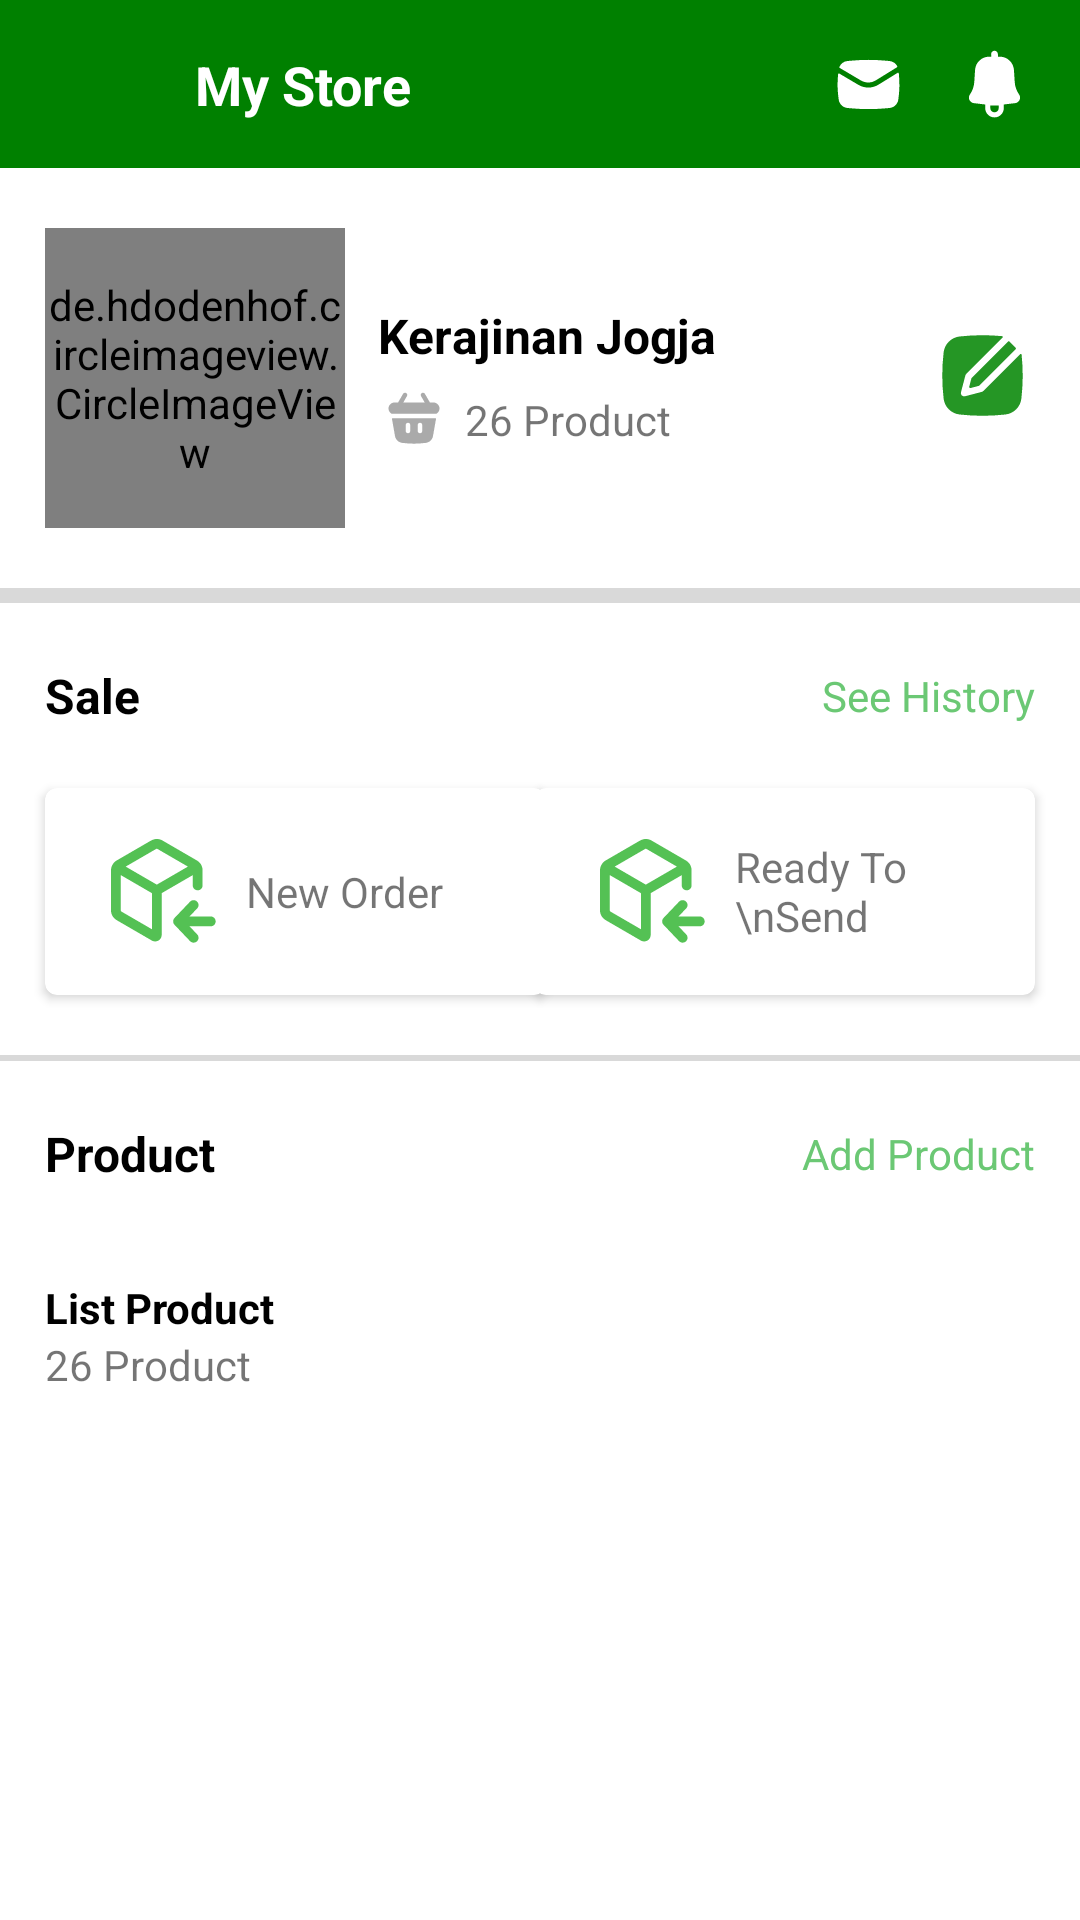

Icons on this 1080px×1920px Android screen, each with its box as (x1, y1, x2, y2):
edit: (942, 335, 1023, 416)
envelope: (837, 59, 900, 109)
notification: (969, 50, 1020, 118)
package in: (111, 839, 216, 943), (600, 839, 705, 943)
shopping basket: (388, 393, 440, 444)
